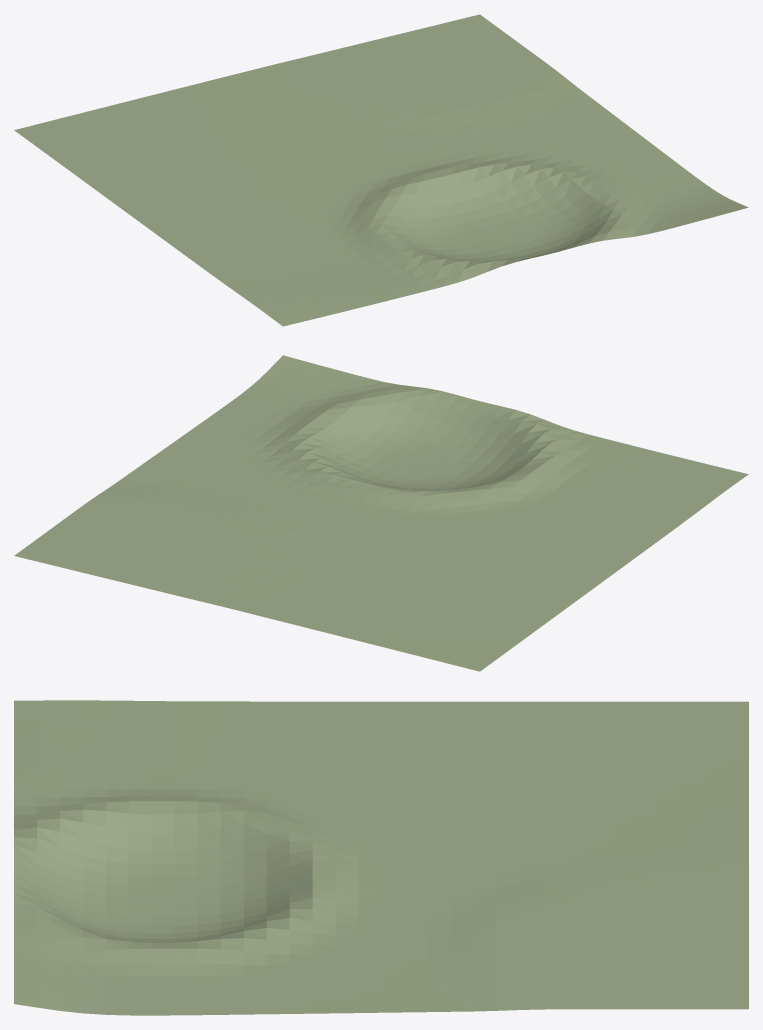
The model's file is lunar-0-1.glb.
3 views of the same model, one above another, from view 1: azimuth 30°, elevation 25°; view 2: azimuth 150°, elevation 25°; view 3: azimuth 270°, elevation 25° (orthographic). The views are drawn at different scales.
Parts seen in each view (by area): view 1: lunar-0-1; view 2: lunar-0-1; view 3: lunar-0-1.
Boxes of the visible parts, <box> form: lunar-0-1: <box>14,14,748,326</box>; lunar-0-1: <box>14,355,748,671</box>; lunar-0-1: <box>14,700,748,1015</box>.
Size of the model in its own units: 128 by 6.33 by 128.
